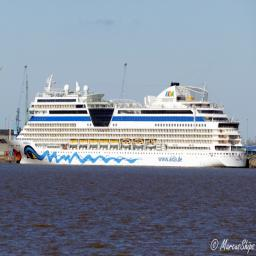cruises: (10, 68, 251, 171)
